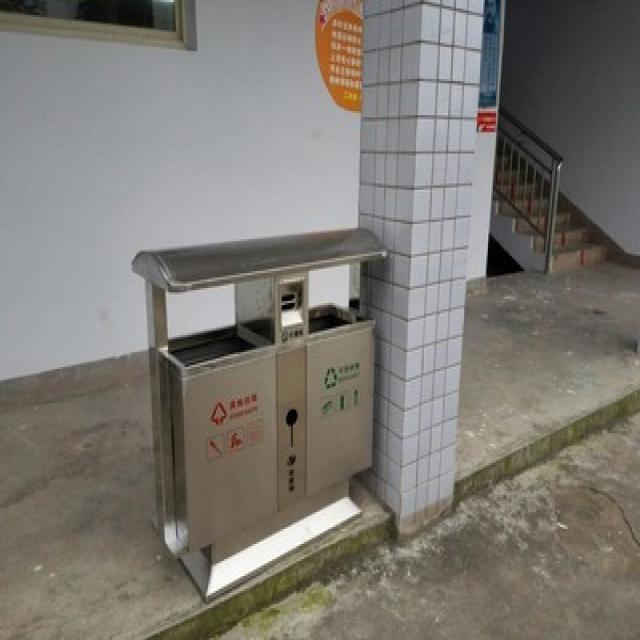ash bin: (123, 222, 389, 597)
